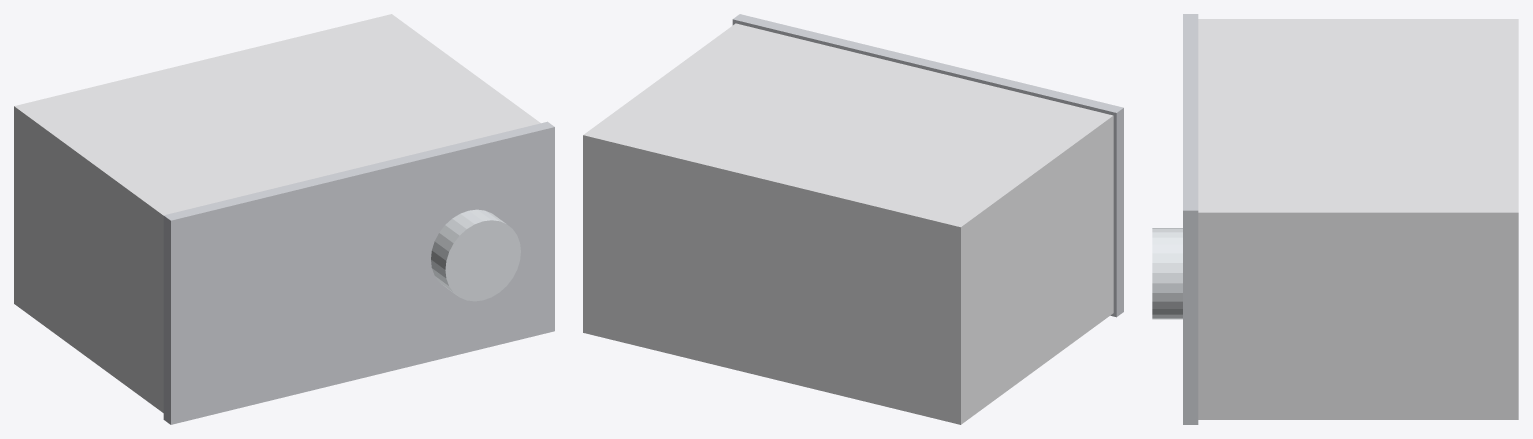
File: kitchen_counter.glb
The picture shows the model from 3 angles, left to right: view 1: azimuth 30°, elevation 25°; view 2: azimuth 150°, elevation 25°; view 3: azimuth 270°, elevation 25°; orthographic projection. The views are drawn at different scales.
Parts seen in each view (by area): view 1: geometry_0; view 2: geometry_0; view 3: geometry_0.
Part boxes in pixels (x1,y1,x2,y2): geometry_0: (14, 14, 554, 424); geometry_0: (583, 14, 1123, 424); geometry_0: (1152, 14, 1518, 424).
Bounding box in the file's own units: 1.22 × 0.62 × 0.96.
Materials: 1 (1 with a texture image).
